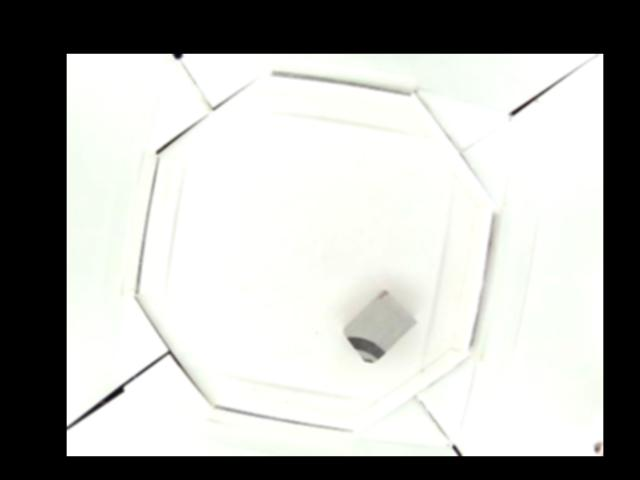China: (342, 291, 417, 364)
